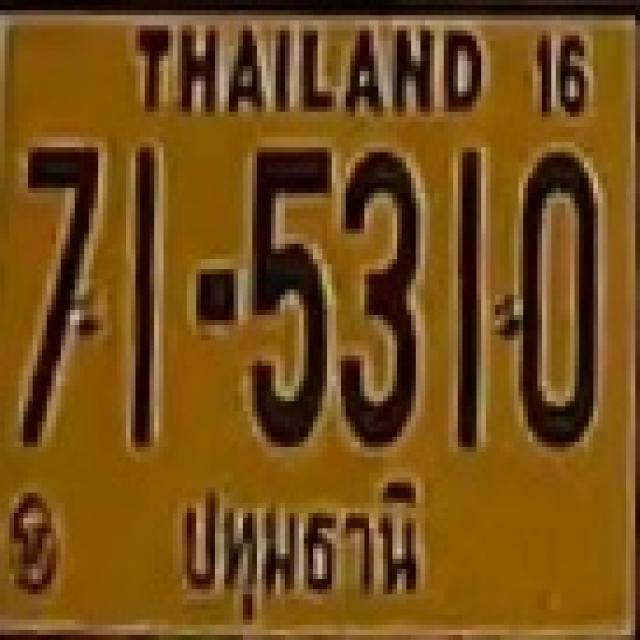3: (336, 173, 416, 442)
7: (23, 142, 94, 295)
PTE: (169, 476, 441, 629)
